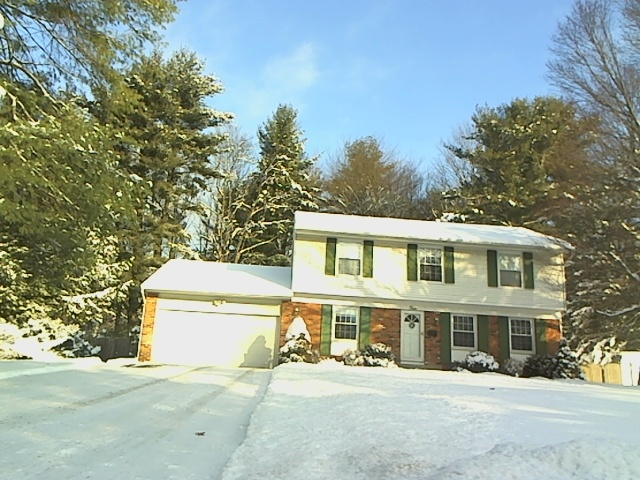Unploughed: (14, 359, 275, 465), (397, 309, 458, 407)
